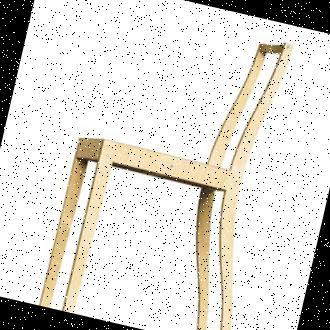Silla: (27, 0, 302, 329)
